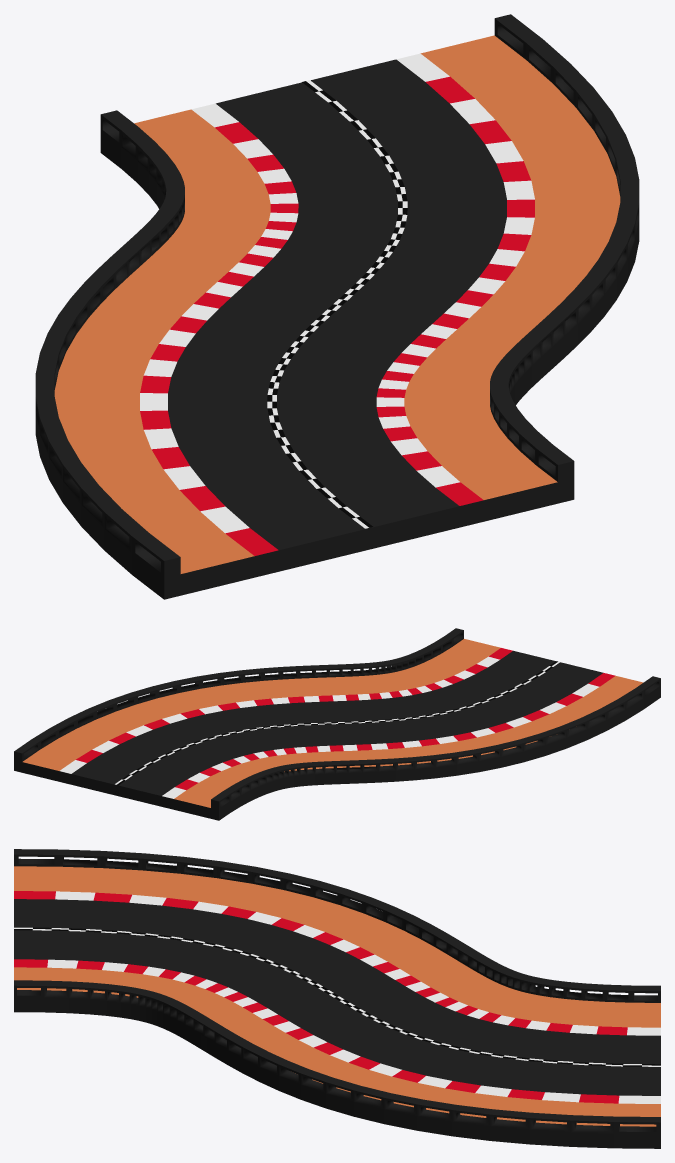
The model's file is ModularTrackSCurveRight-Deux.fbx.
3 views of the same model, one above another, from view 1: azimuth 30°, elevation 25°; view 2: azimuth 150°, elevation 25°; view 3: azimuth 270°, elevation 25° (orthographic). The views are drawn at different scales.
Visible parts, largest first — view 1: ModularTrackSCurveRight, LaneDivider; view 2: ModularTrackSCurveRight, LaneDivider; view 3: ModularTrackSCurveRight, LaneDivider.
Part boxes in pixels (x1=…): ModularTrackSCurveRight: x1=35, y1=14, x2=639, y2=599; LaneDivider: x1=267, y1=80, x2=407, y2=528; ModularTrackSCurveRight: x1=14, y1=628, x2=660, y2=820; LaneDivider: x1=114, y1=661, x2=559, y2=795; ModularTrackSCurveRight: x1=14, y1=849, x2=660, y2=1148; LaneDivider: x1=14, y1=927, x2=660, y2=1066.
Bounding box in the file's own units: 2000 × 90 × 2000.
